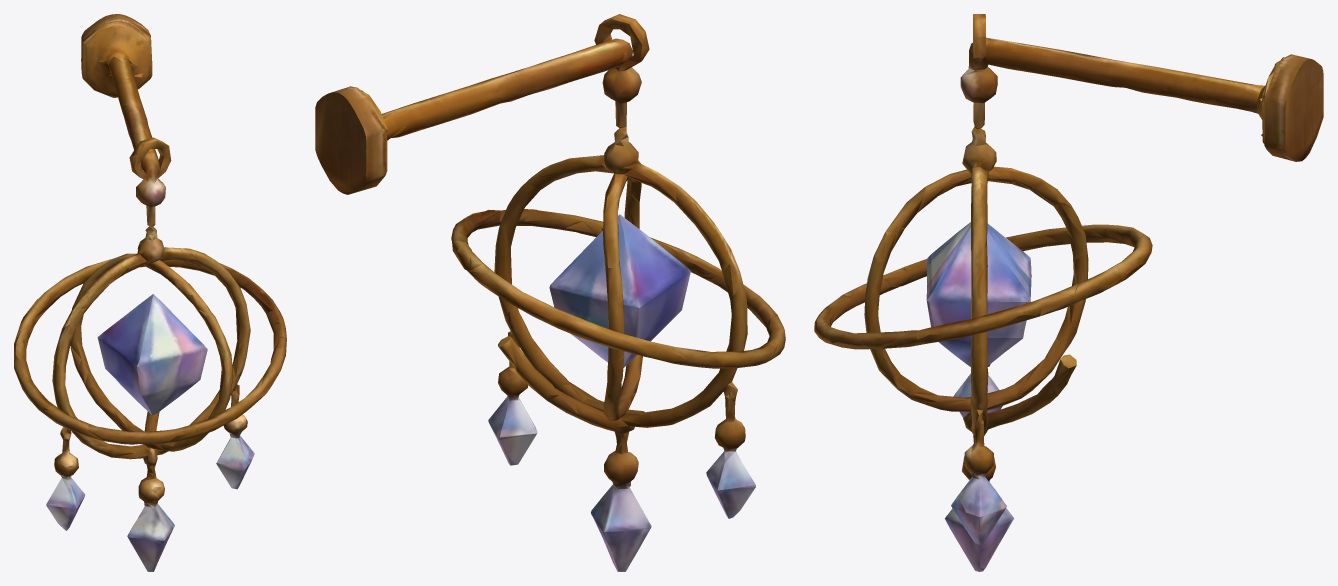
File: wall24.glb
The picture shows the model from 3 angles, left to right: view 1: azimuth 30°, elevation 25°; view 2: azimuth 150°, elevation 25°; view 3: azimuth 270°, elevation 25°; orthographic projection. The views are drawn at different scales.
Bounding box in the file's own units: 0.1762 × 0.3167 × 0.2582.
Materials: 1 (1 with a texture image).
